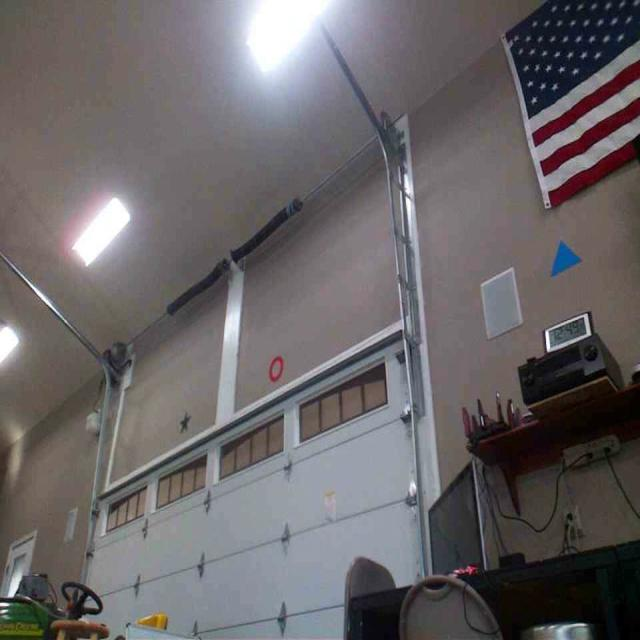ring_red: (267, 353, 284, 380)
star_black: (178, 408, 191, 433)
triangle_blue: (548, 235, 582, 278)
